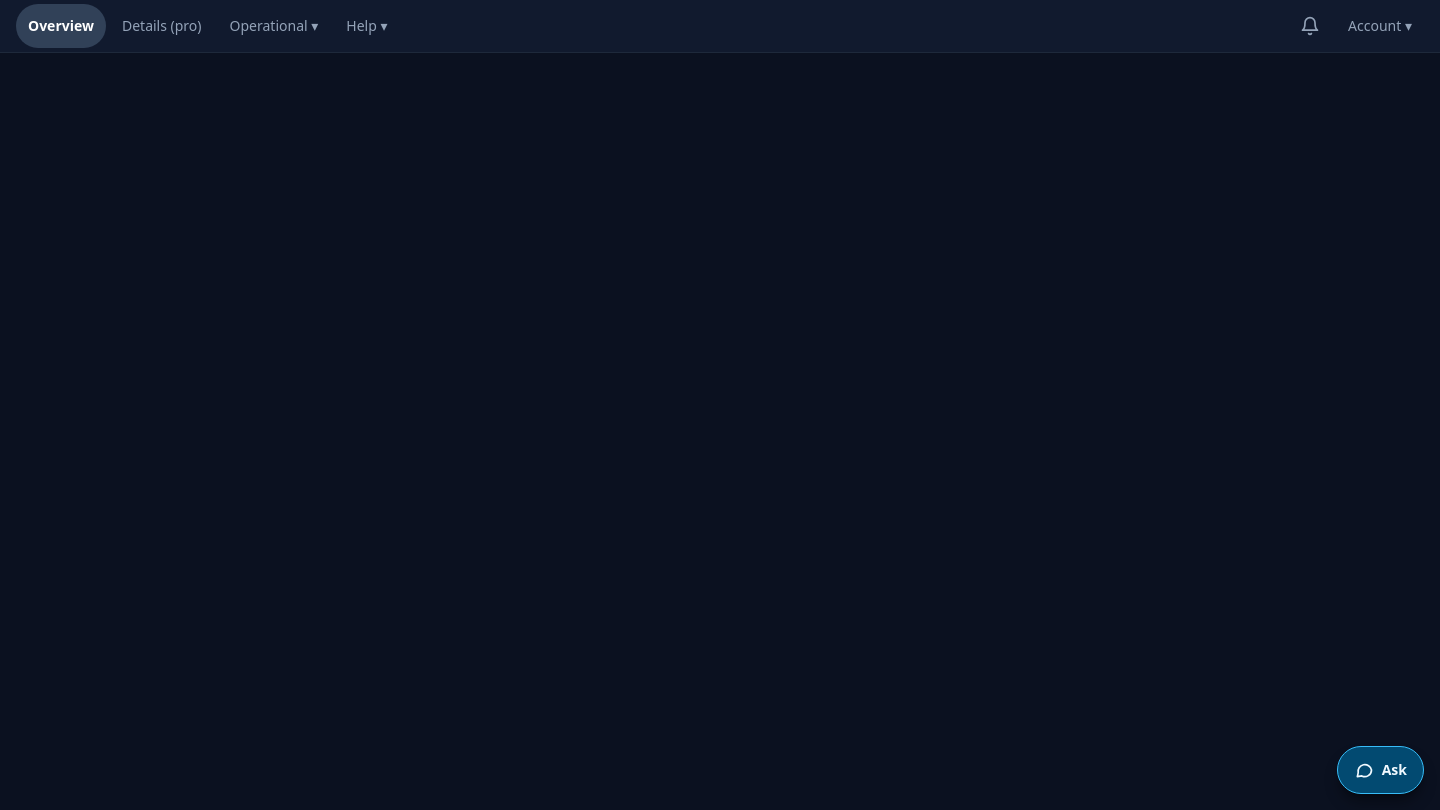
Scenario: Scenario: a person who has not consented › said no: opening a page or asking the assistant sends no event
Click the button "Ask": (1380, 770) [1337,746,1424,794]
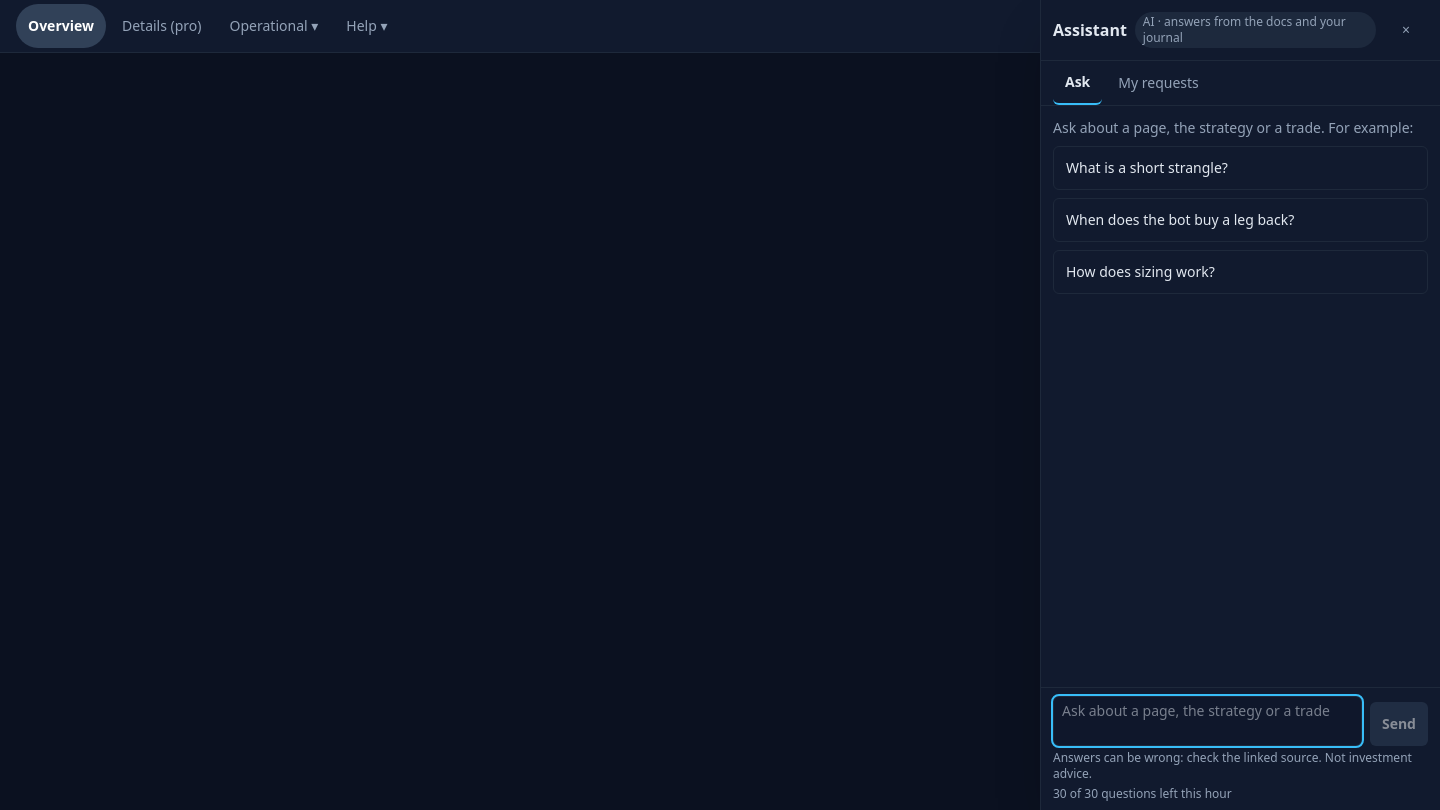
In the text box named "Your question": (1207, 721) [1053,696,1362,746], type "When does the bot buy a leg back?"
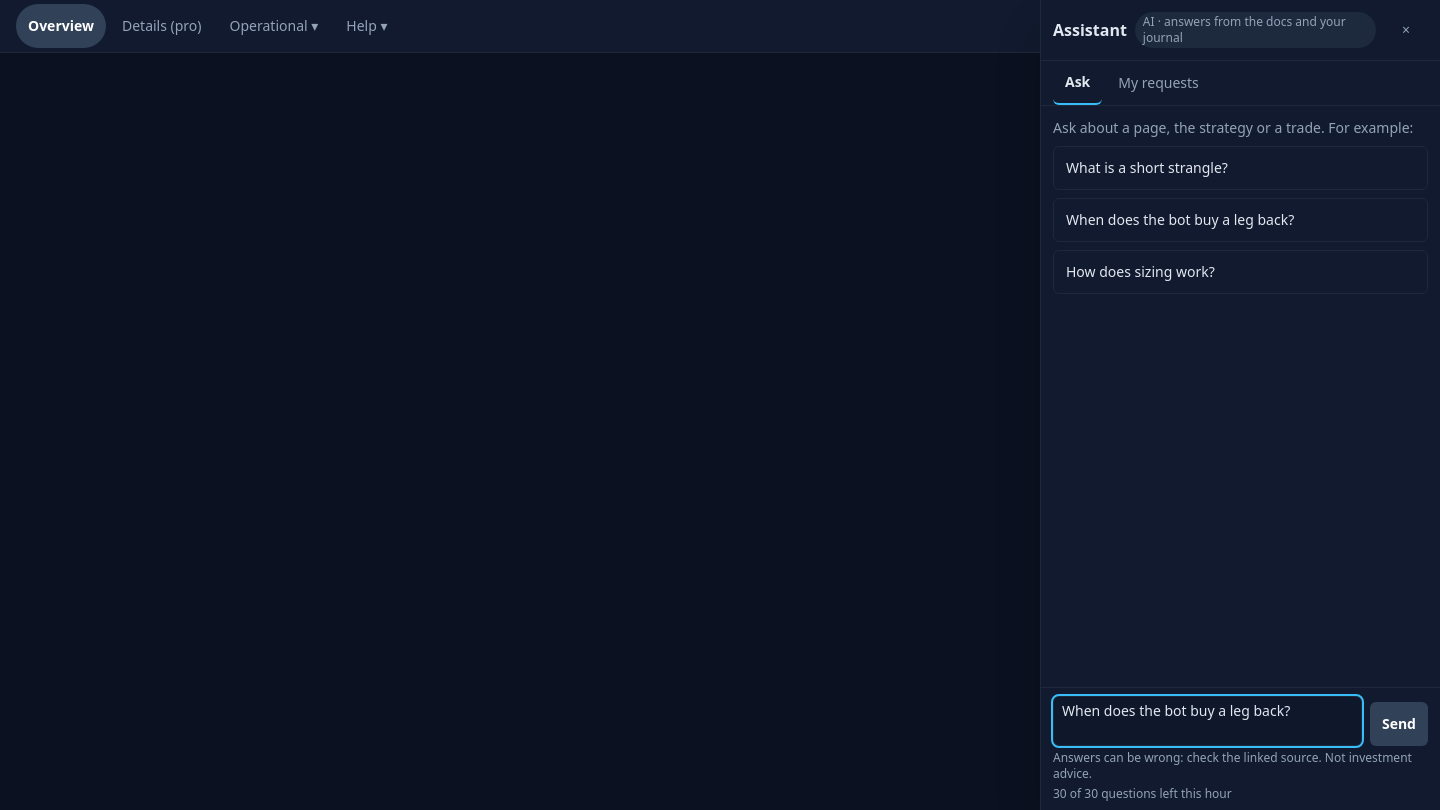
Press Enter in the text box named "Your question", box [1053,696,1362,746]
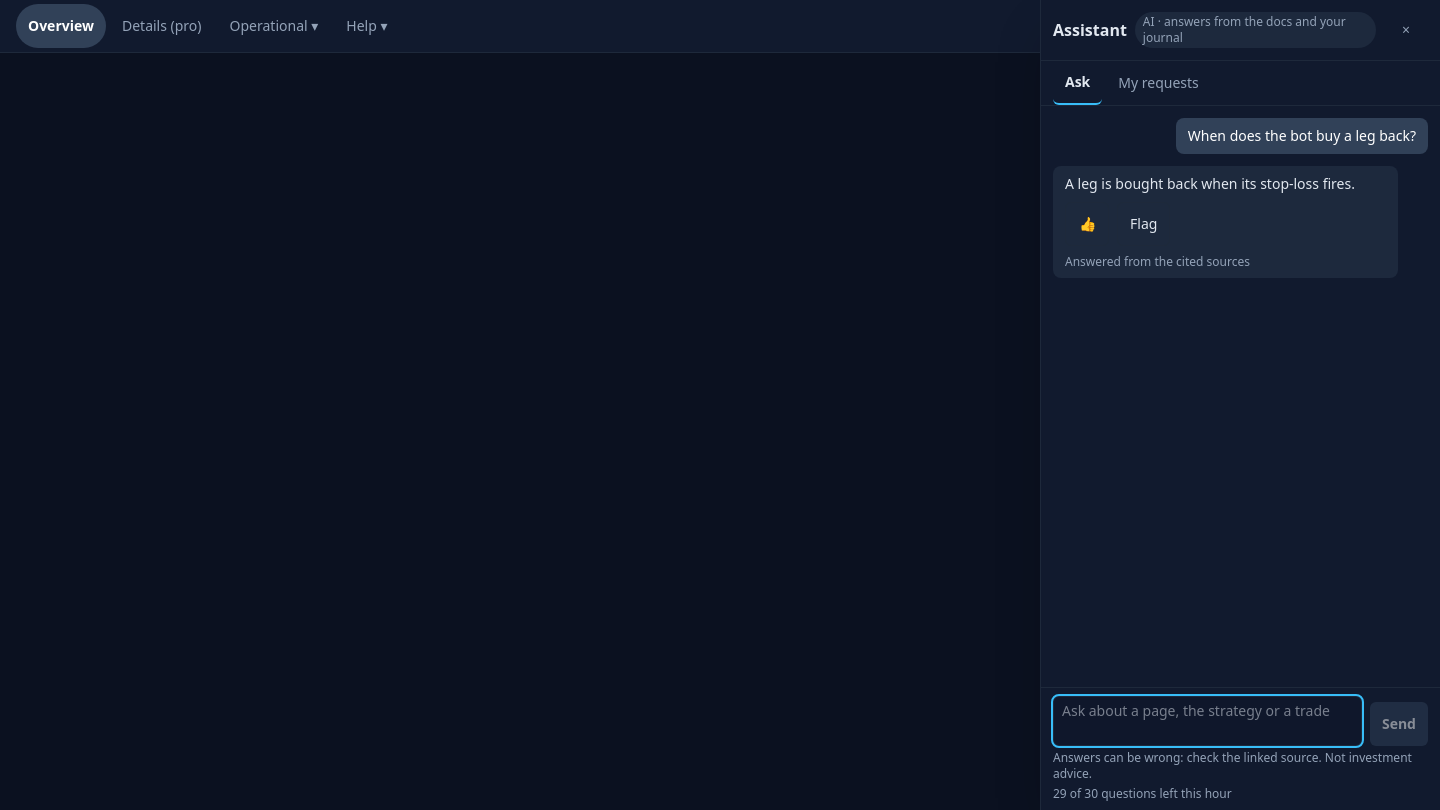
Check: the text "A leg is bought back when its stop-loss fires." is shown, box [1065,174,1386,194]
